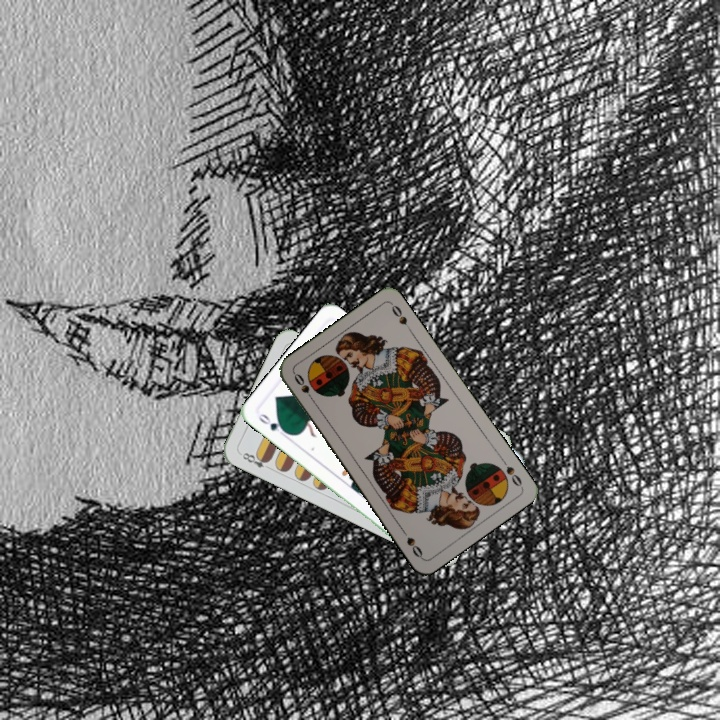E8: (236, 448, 274, 472)
GO: (254, 409, 291, 440)
SO: (290, 369, 318, 405), (497, 454, 525, 489)
